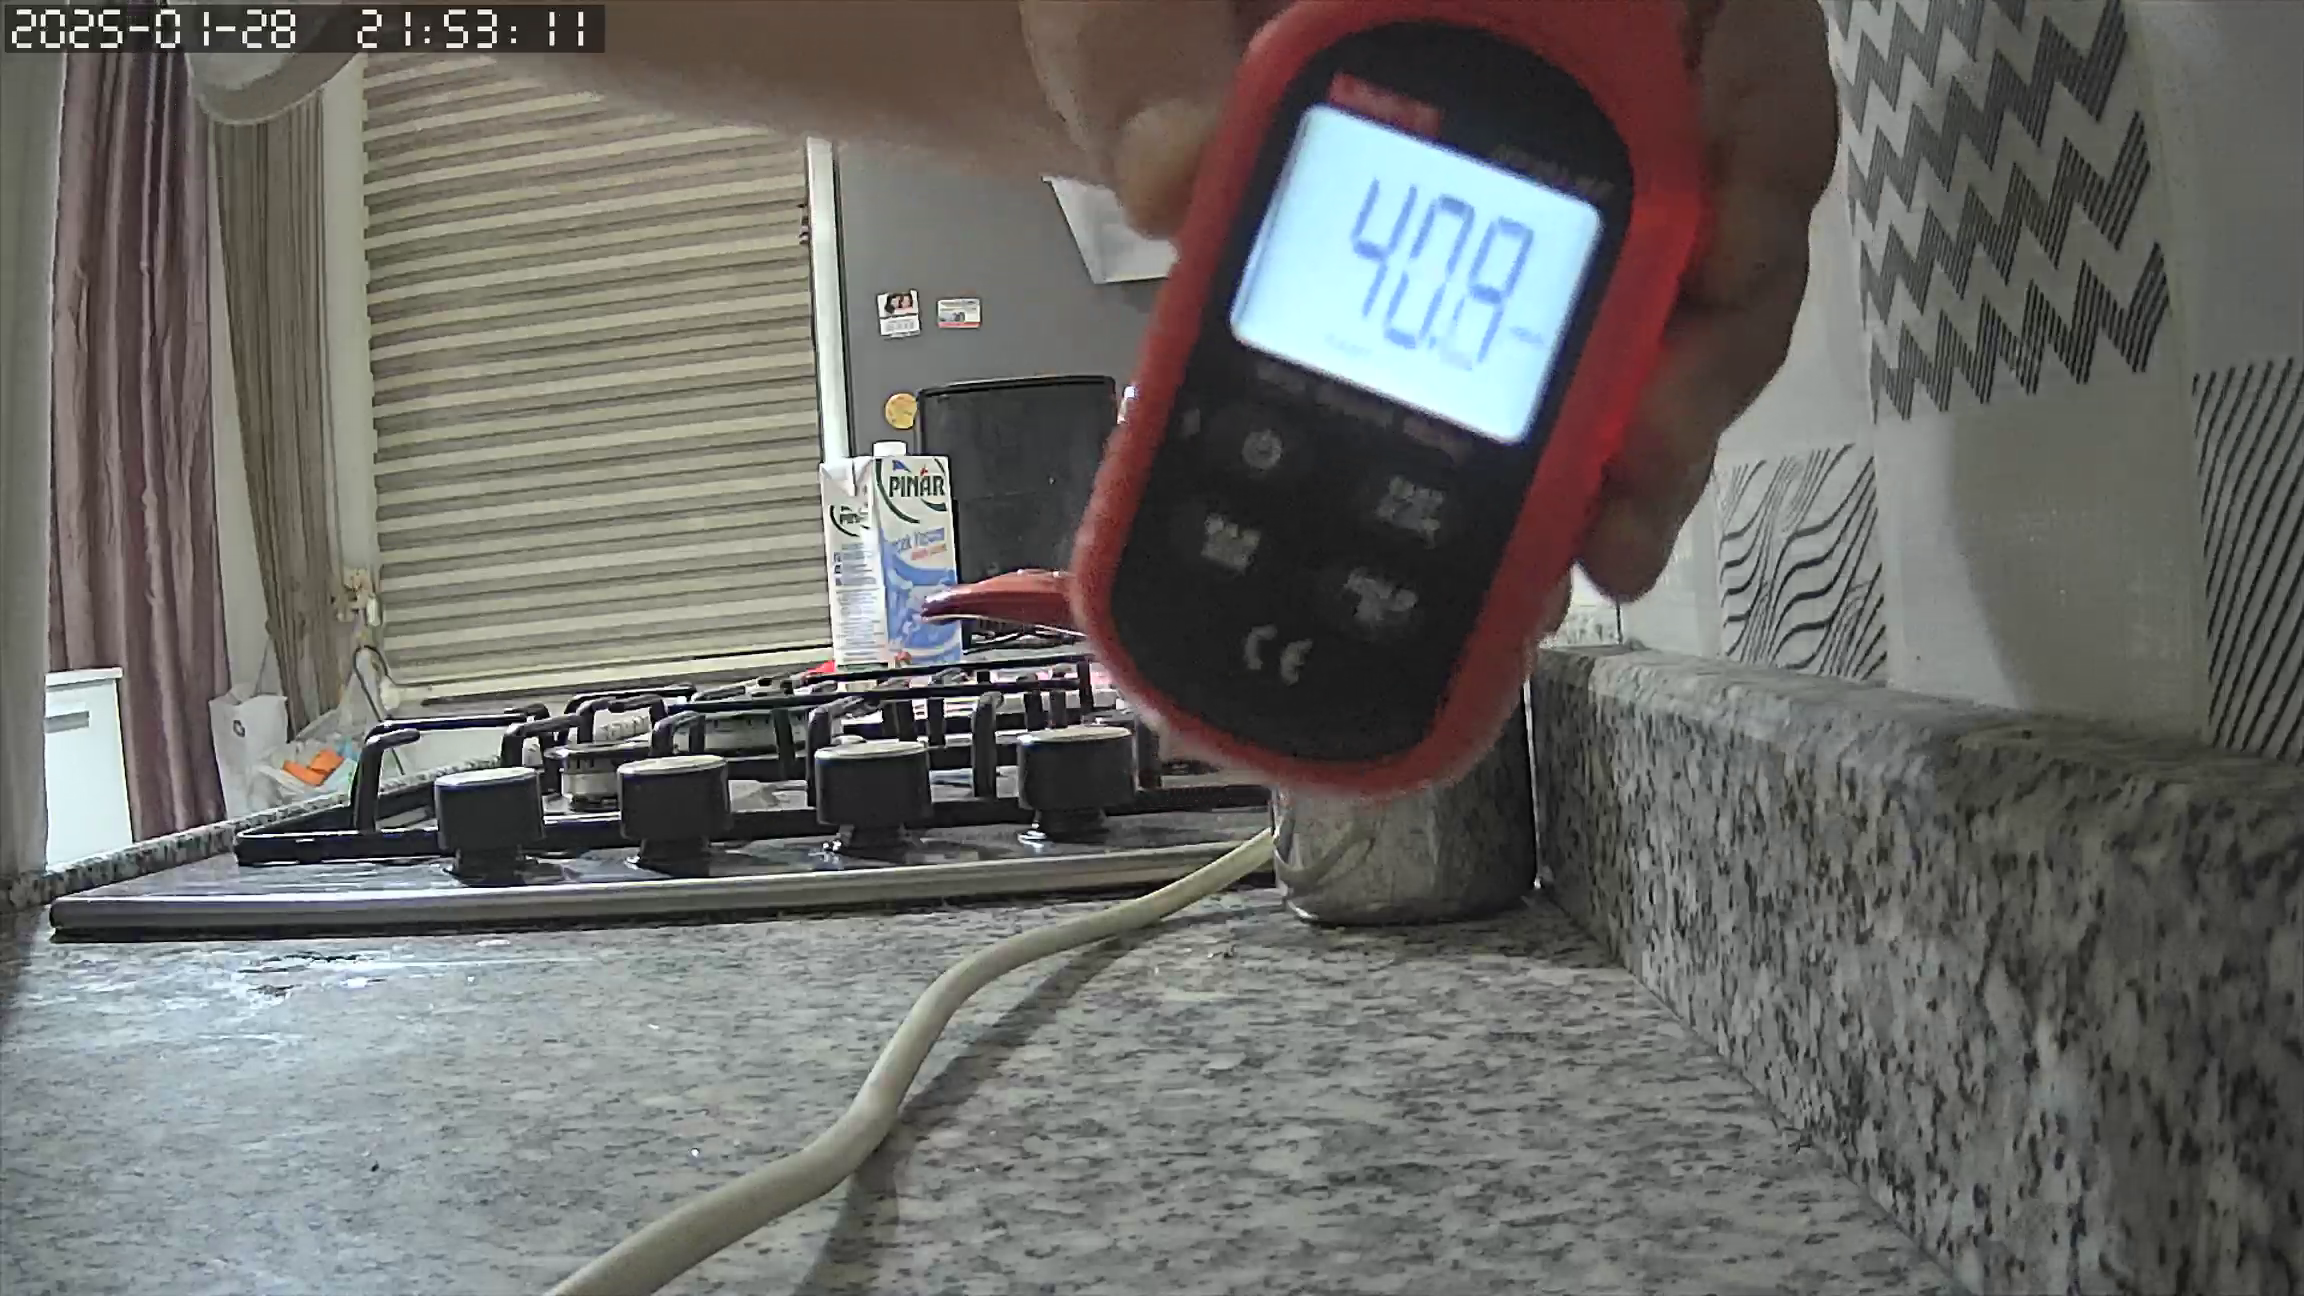screen: (1233, 101, 1597, 445)
